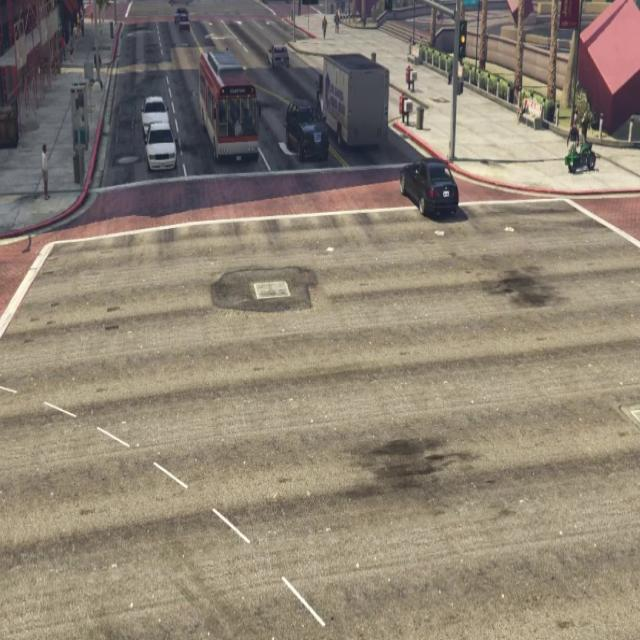Yellow-Signal: (458, 8, 475, 68), (295, 0, 326, 14), (380, 0, 398, 23)
